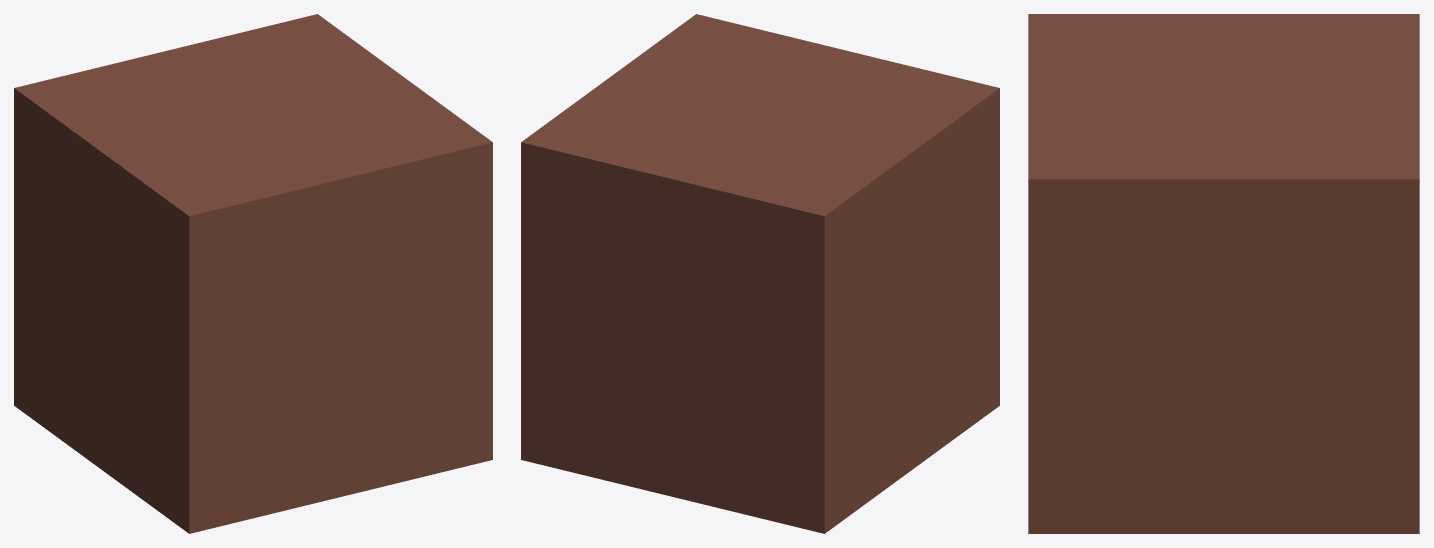
File: Cave_1205.fbx
3 renders of one model, left to right at view 1: azimuth 30°, elevation 25°; view 2: azimuth 150°, elevation 25°; view 3: azimuth 270°, elevation 25°, orthographic. The views are drawn at different scales.
Visible parts, largest first — view 1: Cave; view 2: Cave; view 3: Cave.
Part boxes in pixels (x1,y1,x2,y2): Cave: (14,14,492,533); Cave: (521,14,999,533); Cave: (1028,14,1419,533).
Bounding box in the file's own units: 23600 × 23600 × 23601.
